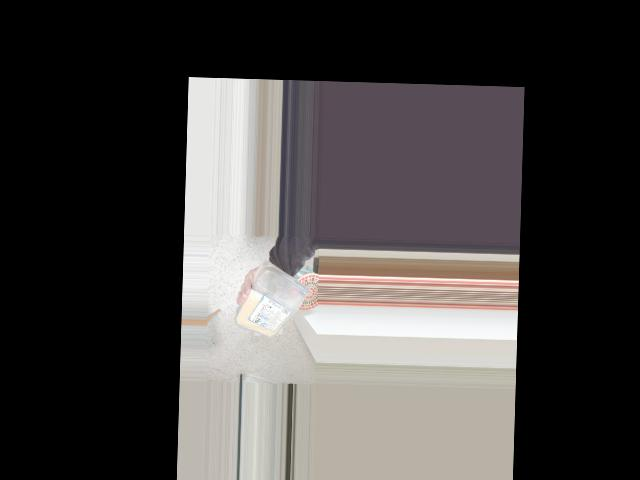cheese: (244, 270, 307, 340)
